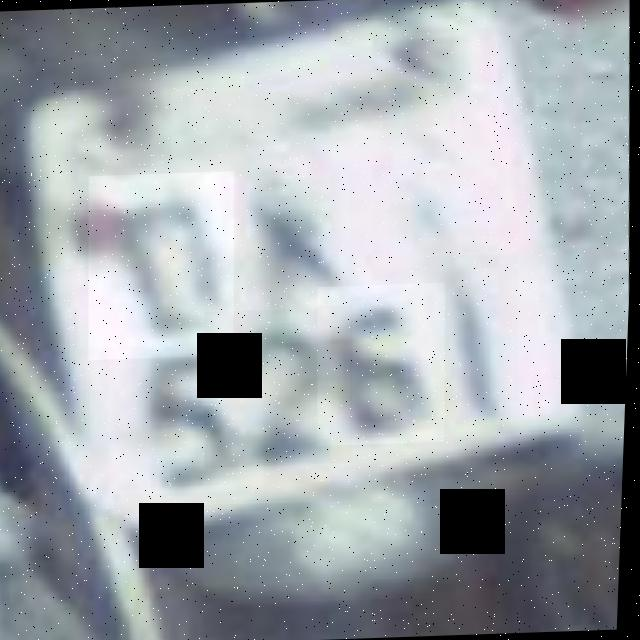1: (422, 253, 525, 404)
2: (202, 306, 360, 468)
5: (106, 333, 271, 494)
6: (314, 283, 452, 447)
D: (85, 170, 244, 348)
T: (85, 170, 241, 360)
